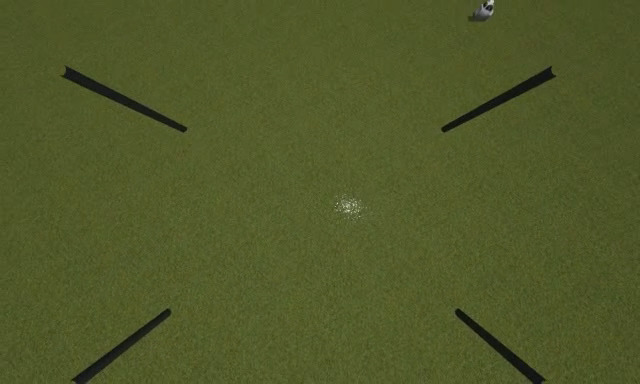Car: (476, 0, 495, 18)
